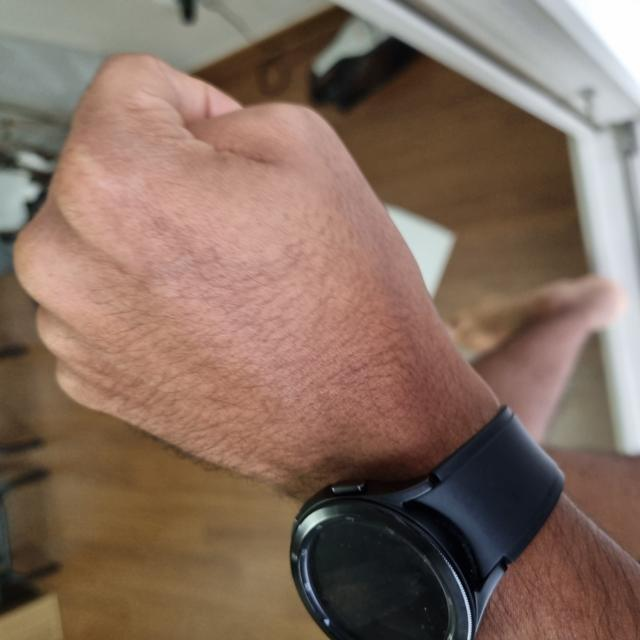Rock: (153, 8, 590, 626)
